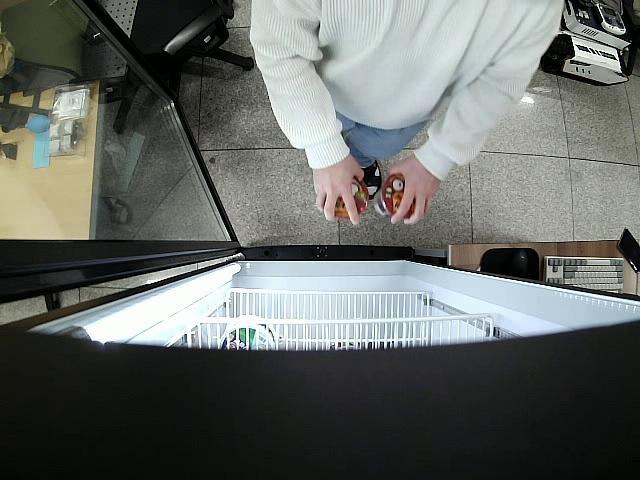06_nuguri_S: (322, 177, 368, 222), (373, 174, 416, 220)
